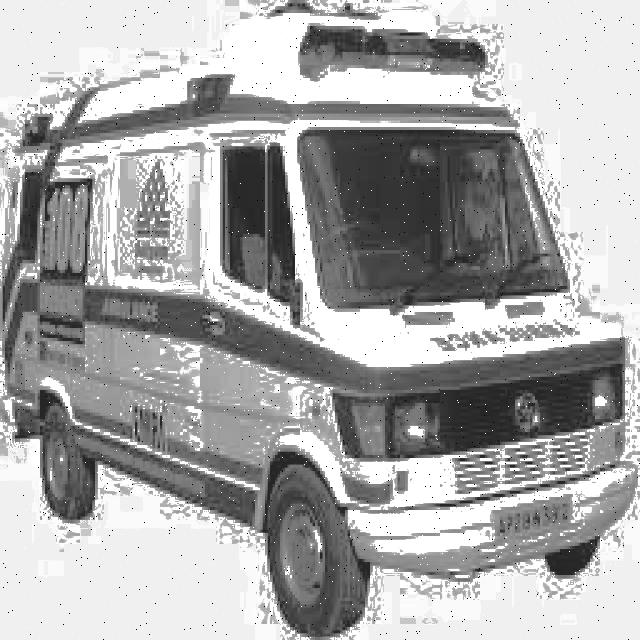LCV: (233, 3, 637, 586)
